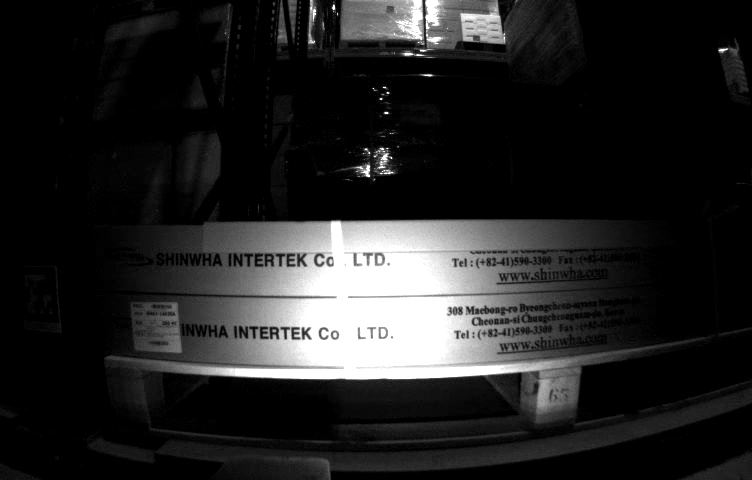True Barcode: (133, 302, 184, 352)
